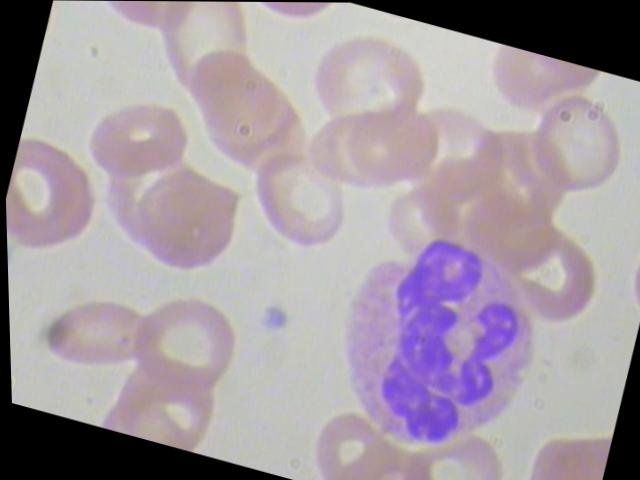Platelets: (250, 299, 293, 338)
Red Blood Cells: (112, 149, 255, 292), (299, 17, 449, 153), (129, 1, 286, 120), (116, 280, 254, 406), (230, 138, 368, 264), (508, 82, 639, 210), (23, 279, 157, 396), (3, 129, 113, 269), (73, 89, 196, 202), (391, 414, 523, 479)
White Blood Cells: (294, 205, 581, 478)
